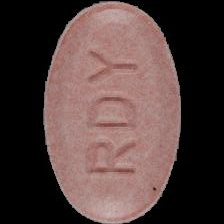21695-993: (0, 0, 224, 224)
